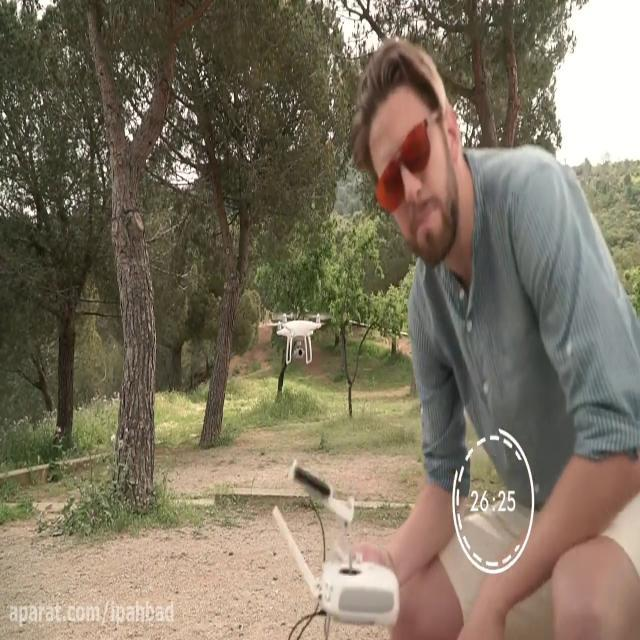drone: (264, 304, 334, 368)
